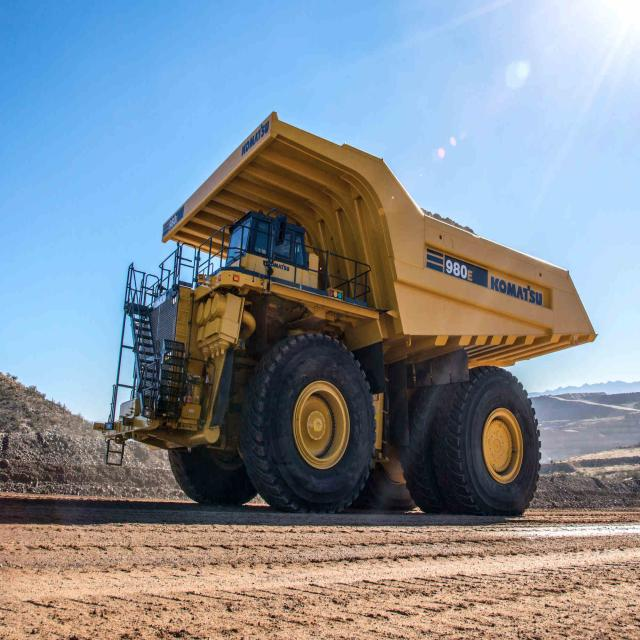dump_truck: (106, 101, 604, 540)
